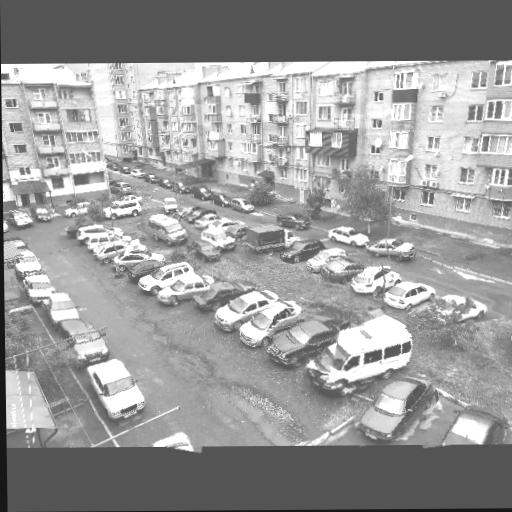busy: (303, 319, 415, 396), (348, 375, 440, 443), (83, 356, 150, 423), (270, 314, 339, 370), (419, 408, 511, 447), (241, 302, 299, 348), (215, 290, 274, 333), (41, 292, 93, 333), (433, 293, 490, 327), (234, 219, 290, 252), (161, 272, 211, 307), (194, 282, 247, 315), (71, 328, 112, 369), (127, 429, 203, 451), (146, 212, 191, 247), (143, 263, 188, 295), (366, 233, 414, 263), (350, 264, 394, 296), (383, 281, 433, 308), (95, 238, 142, 266), (278, 237, 319, 263), (121, 253, 162, 279), (273, 206, 312, 233), (24, 270, 54, 304), (306, 246, 345, 272), (324, 257, 364, 282), (13, 250, 45, 280), (113, 249, 155, 271), (200, 227, 236, 252), (330, 226, 368, 247), (189, 240, 221, 263), (193, 211, 220, 228), (33, 205, 54, 224), (14, 207, 31, 230)
free: (416, 254, 454, 273), (253, 208, 282, 222)
